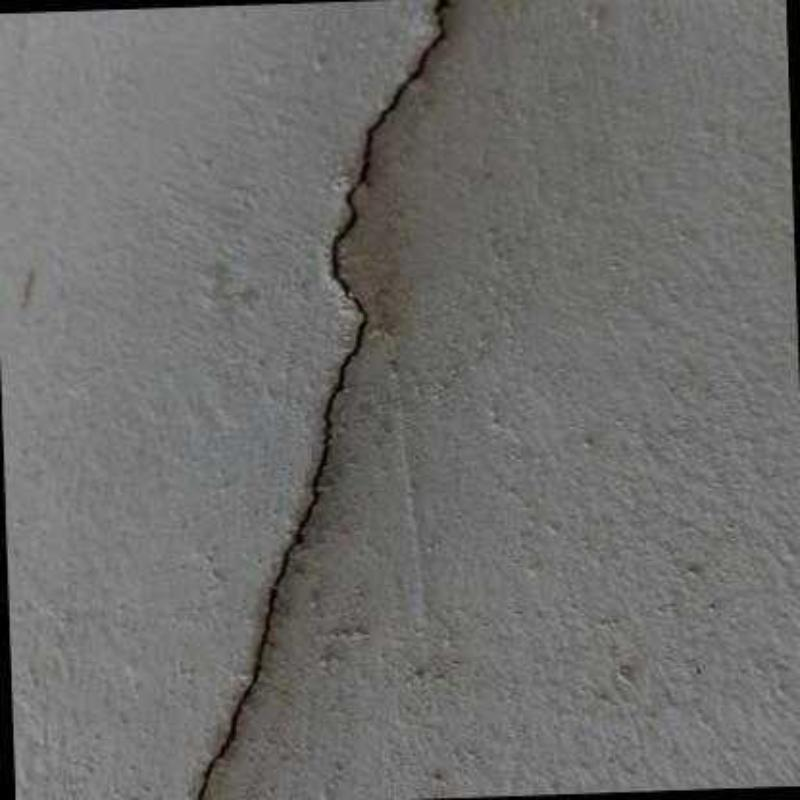pothole: (195, 3, 447, 797)
